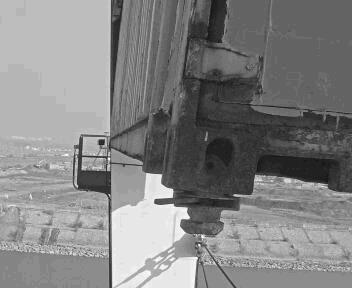twist_lock_1: (161, 190, 243, 242)
